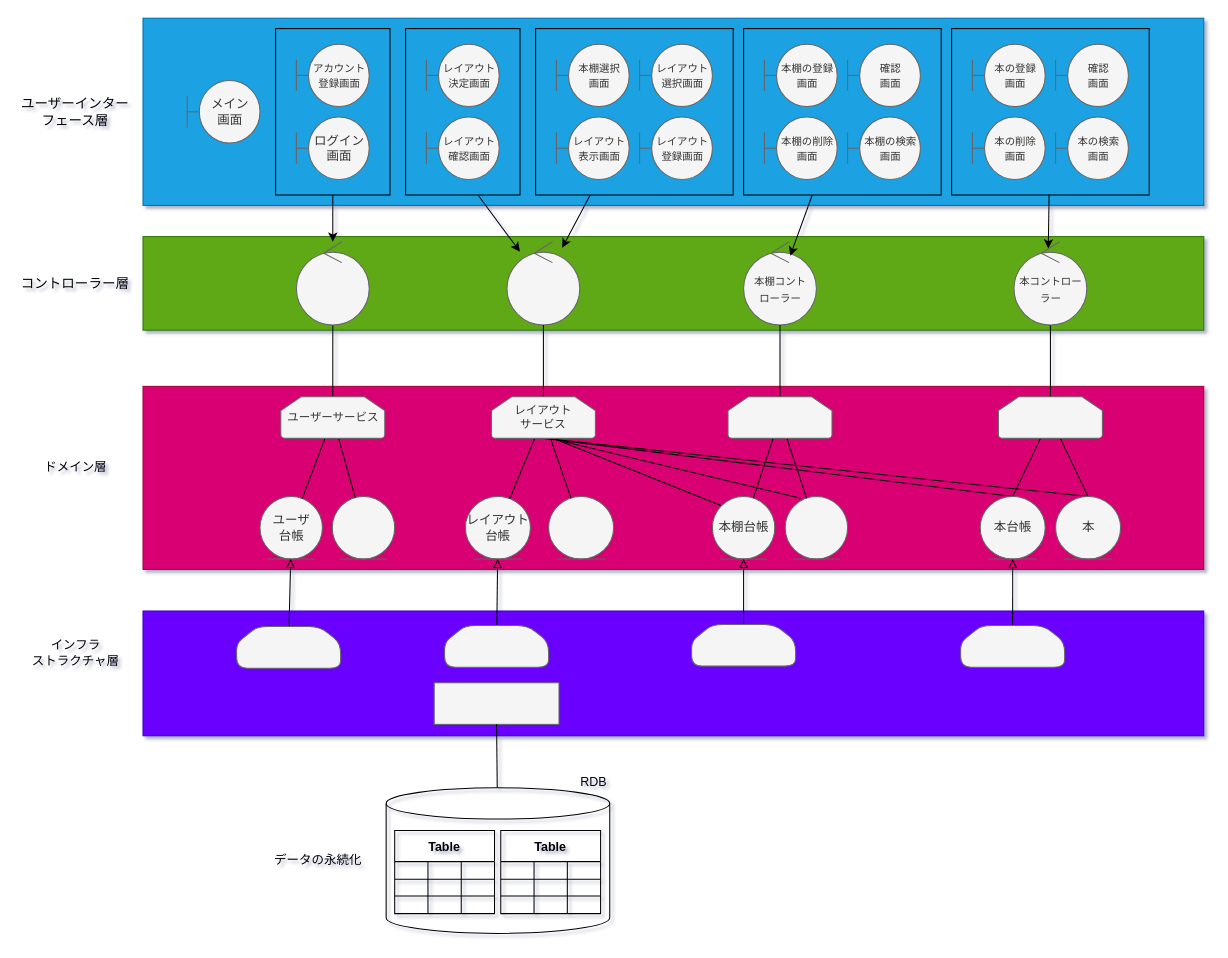
This 1228x958 diagram has some shape labels left out. The centre of each missing label's shape, as x and y in pixels:
"O/Rマッパー" goes at point 496,703.
"ユーザ" goes at point 363,527.
"ユーザレポジトリ" goes at point 288,647.
"ユーザー コントローラー" goes at point 332,283.
"レイアウト" goes at point 581,527.
"レイアウト レポジトリ" goes at point 496,646.
"レイアウトコントローラー" goes at point 543,283.
"本 サービス" goes at point 1049,417.
"本レポジトリ" goes at point 1012,646.
"本棚" goes at point 816,527.
"本棚 サービス" goes at point 779,417.
"本棚レポジトリ" goes at point 743,644.
